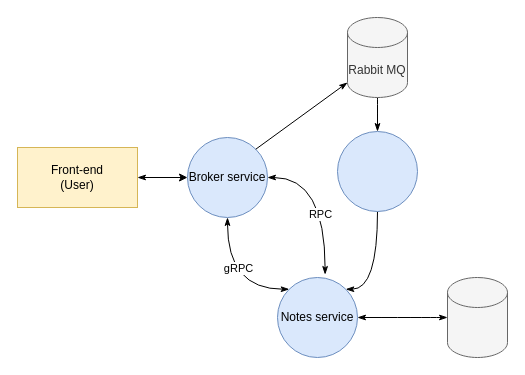
Image size: 525x375. Some labels were removed from this diagram. The box of each missing label's shape, as (x1, y1, x2, y2) in pixels:
Listener service: (336, 130, 418, 212)
Postgres: (446, 276, 508, 358)
